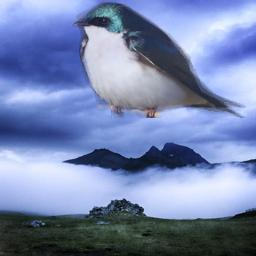Swallow: (72, 0, 246, 118)
